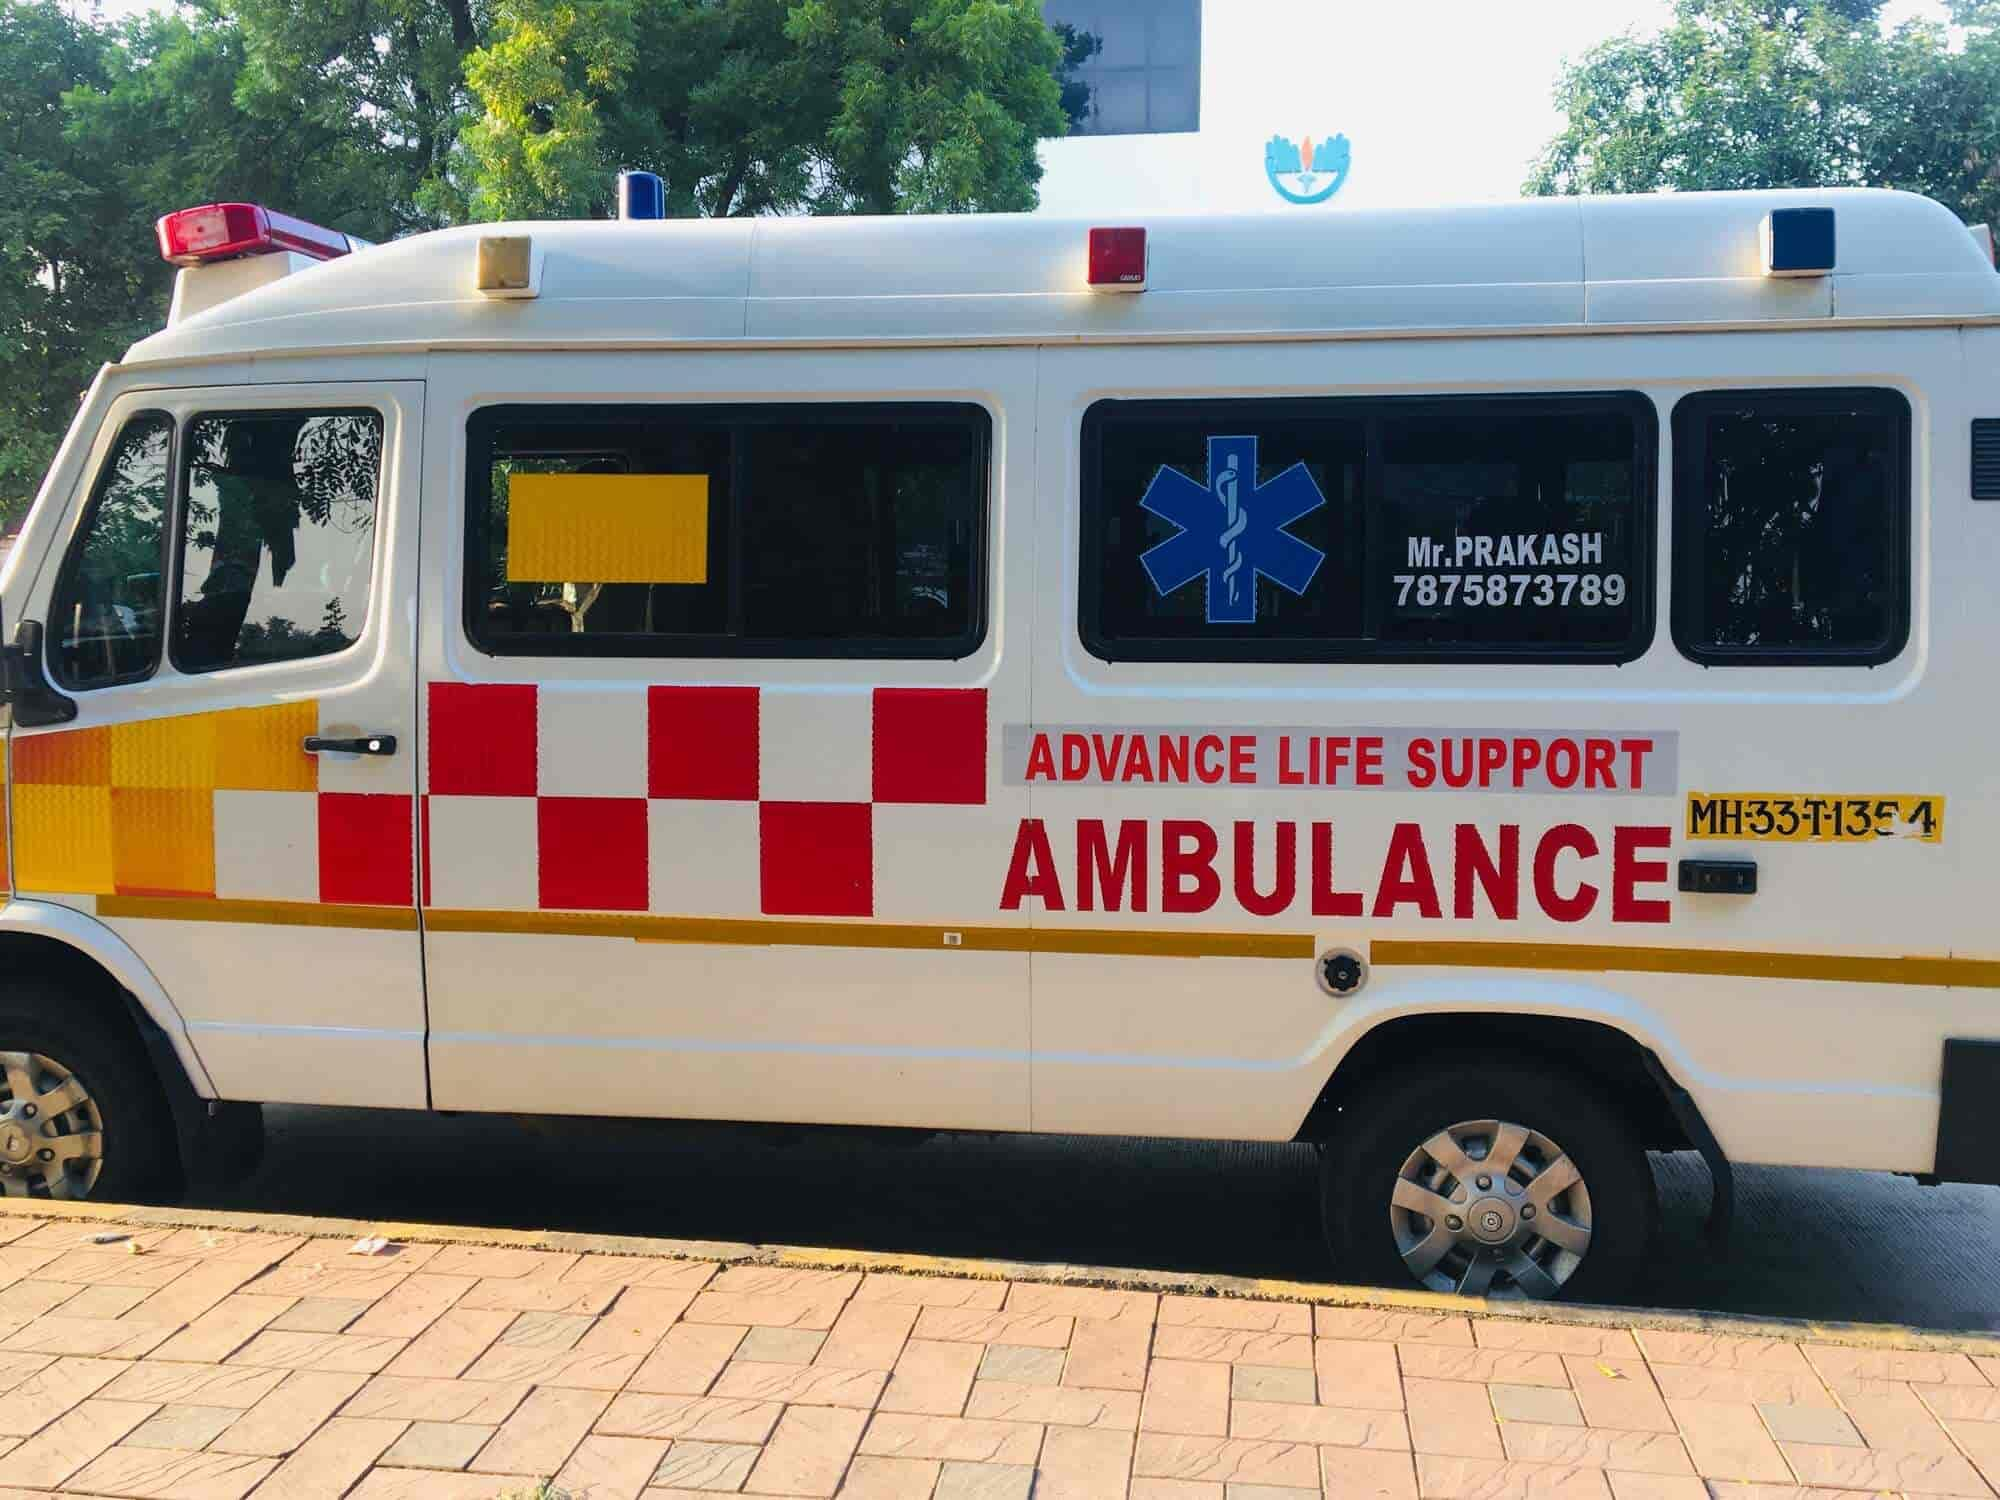ER: (6, 172, 2000, 1305)
